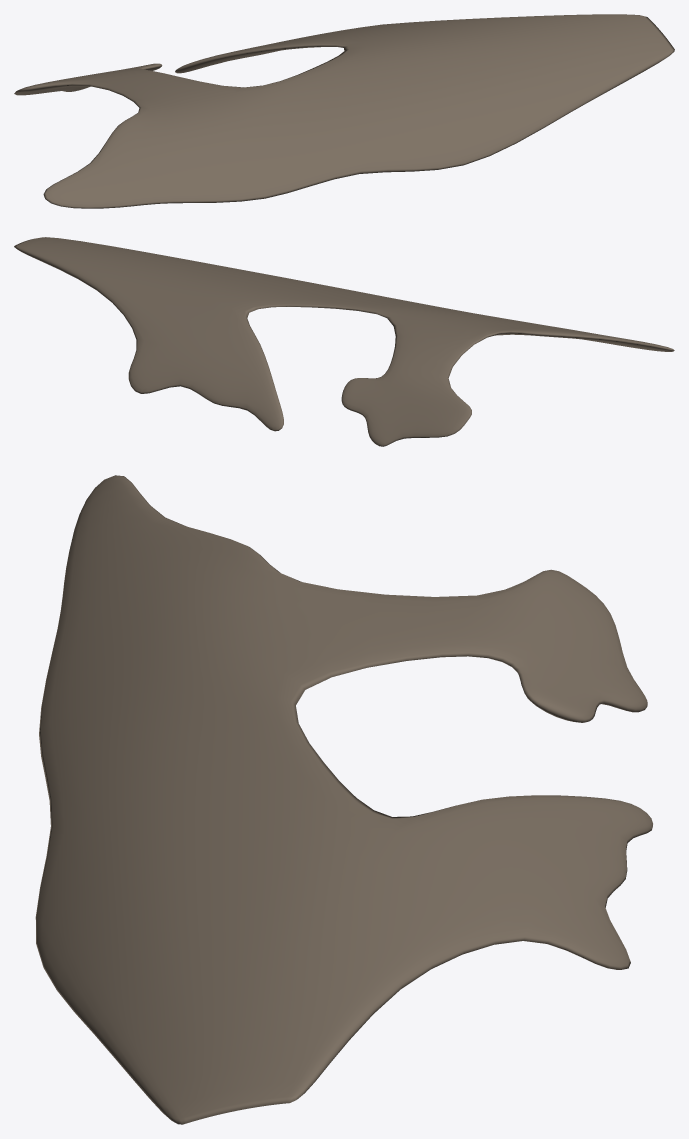
The model's file is autum_leaf_02.fbx.
3 views of the same model, one above another, from view 1: azimuth 30°, elevation 25°; view 2: azimuth 150°, elevation 25°; view 3: azimuth 270°, elevation 25° (orthographic). The views are drawn at different scales.
Parts seen in each view (by area): view 1: pPlane3; view 2: pPlane3; view 3: pPlane3.
Boxes of the visible parts, bbox=[...] form: pPlane3: bbox=[14, 14, 674, 208]; pPlane3: bbox=[14, 237, 674, 446]; pPlane3: bbox=[35, 475, 652, 1124].
Bounding box in the file's own units: 1.89 × 0.1963 × 0.8234.
